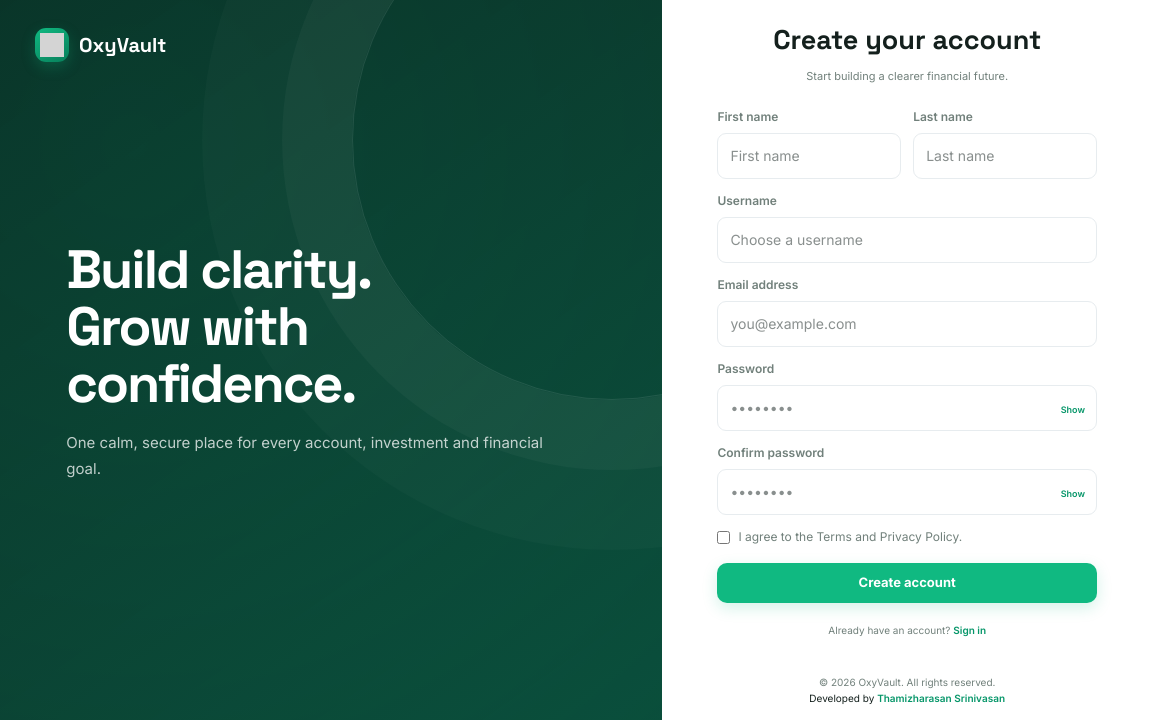
Test: RegisterPage › links back to the sign-in page
Step 1. Click the link "Sign in" → (970, 630), box [953,624,986,636]
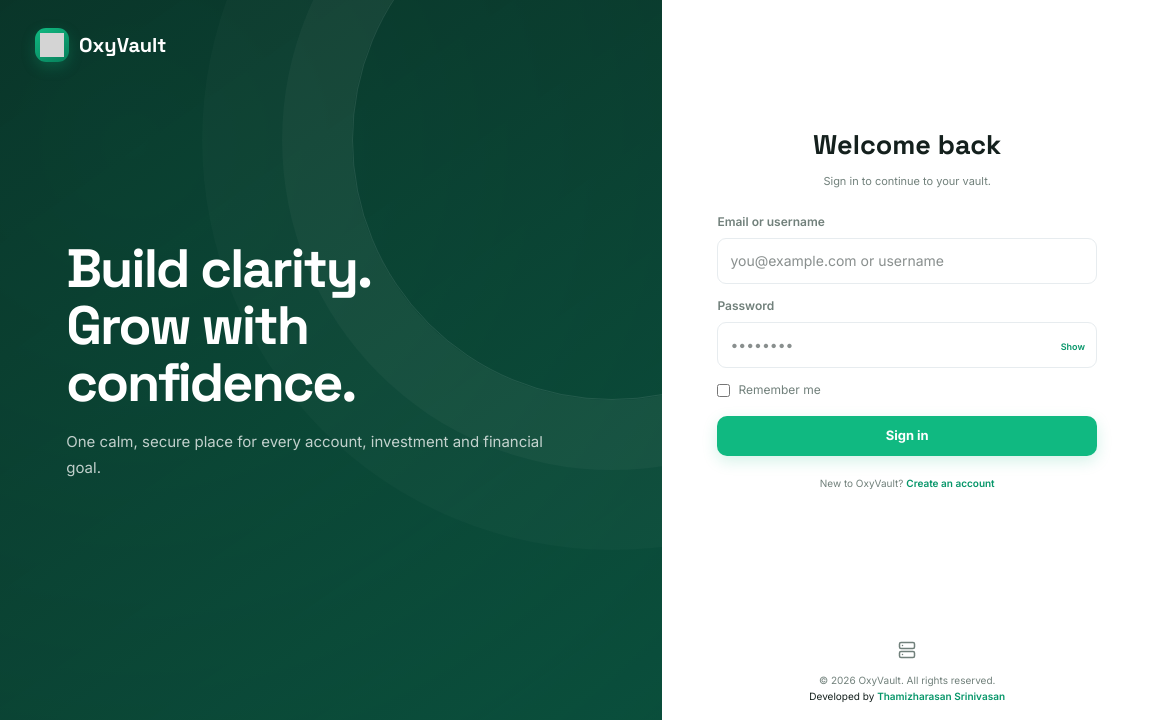
Expected: the heading "Welcome back" is shown, [813,127,1001,162]
